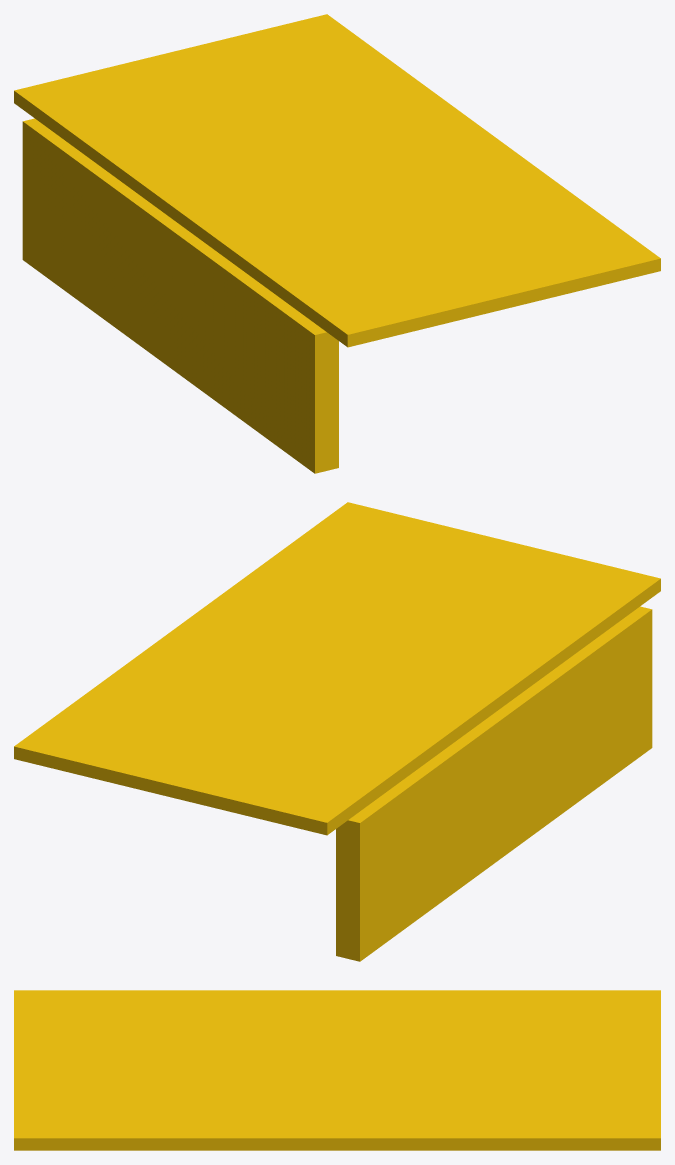
The model's file is taxi_boot_lid.glb.
3 views of the same model, one above another, from view 1: azimuth 30°, elevation 25°; view 2: azimuth 150°, elevation 25°; view 3: azimuth 270°, elevation 25° (orthographic). The views are drawn at different scales.
Parts seen in each view (by area): view 1: body:compound; view 2: body:compound; view 3: body:compound.
Part boxes in pixels (box(x1,y1,x2,y2)): body:compound: box(14, 14, 660, 473); body:compound: box(14, 502, 660, 961); body:compound: box(14, 990, 660, 1150).
Size of the model in its own units: 0.8438 by 0.375 by 1.5.
